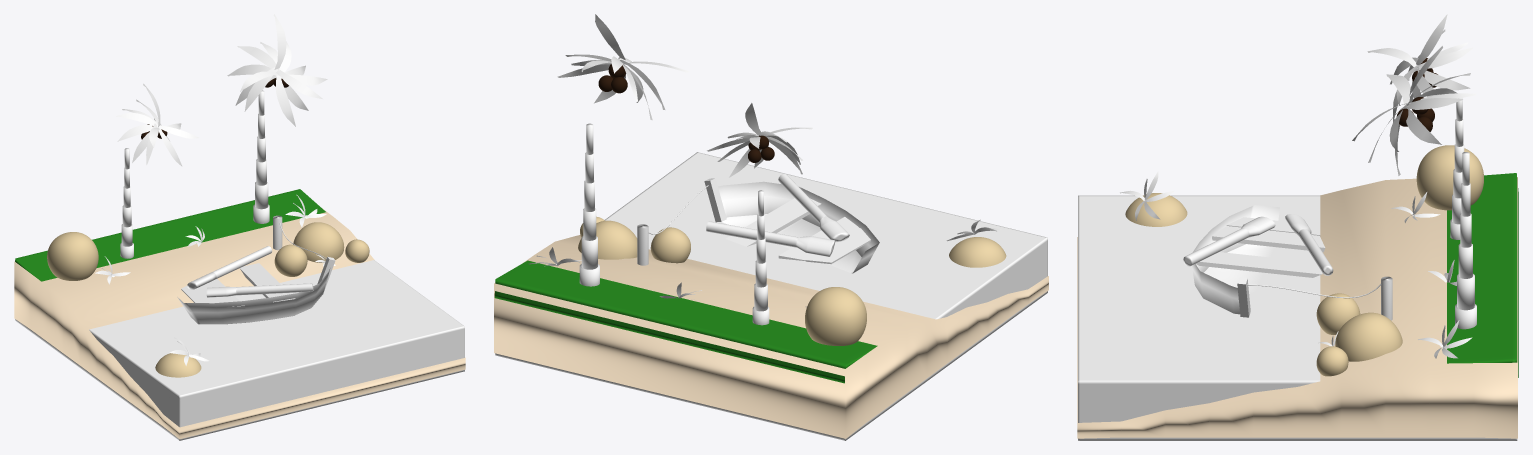
The model's file is teste.glb.
The picture shows the model from 3 angles, left to right: view 1: azimuth 30°, elevation 25°; view 2: azimuth 150°, elevation 25°; view 3: azimuth 270°, elevation 25°; orthographic projection. The views are drawn at different scales.
Visible parts, largest first — view 1: Cube, Cube.001, Cube.002, Plane, Cube.012, Cube.007, Cylinder.003, Cylinder.002, Cylinder, Cube.010, Cube.008, Cylinder.001 (+2 smaller); view 2: Cube.001, Cube, Cube.002, Plane, Cube.012, Cylinder.003, Cylinder.001, Cylinder.002, Cube.007, Cube.010, Cube.006, Cube.008 (+4 smaller); view 3: Cube, Cube.001, Cube.002, Plane, Cube.012, Cube.007, Cylinder.003, Cube.006, Cube.010, Cylinder.002, Cylinder, Cube.008 (+9 smaller).
Boxes of the visible parts, left/top/right/bottom form: Cube: left=15, top=260, right=464, bottom=440; Cube.001: left=14, top=208, right=465, bottom=439; Cube.002: left=15, top=189, right=325, bottom=281; Plane: left=177, top=268, right=330, bottom=324; Cube.012: left=47, top=232, right=98, bottom=280; Cube.007: left=293, top=222, right=344, bottom=262; Cylinder.003: left=253, top=90, right=269, bottom=223; Cylinder.002: left=120, top=148, right=133, bottom=258; Cylinder: left=206, top=283, right=313, bottom=297; Cube.010: left=155, top=353, right=201, bottom=377; Cube.008: left=274, top=244, right=307, bottom=276; Cylinder.001: left=187, top=246, right=272, bottom=289; Cube.001: left=494, top=235, right=1048, bottom=438; Cube: left=495, top=152, right=1047, bottom=440; Cube.002: left=494, top=260, right=877, bottom=383; Plane: left=718, top=181, right=879, bottom=273; Cube.012: left=805, top=287, right=866, bottom=345; Cylinder.003: left=579, top=123, right=599, bottom=286; Cylinder.001: left=706, top=221, right=835, bottom=256; Cylinder.002: left=752, top=190, right=769, bottom=325; Cube.007: left=578, top=220, right=637, bottom=259; Cube.010: left=949, top=237, right=1006, bottom=267; Cube.006: left=725, top=198, right=821, bottom=246; Cube.008: left=650, top=227, right=690, bottom=263; Cube: left=1078, top=195, right=1517, bottom=440; Cube.001: left=1077, top=177, right=1517, bottom=438; Cube.002: left=1447, top=173, right=1518, bottom=377; Plane: left=1192, top=205, right=1279, bottom=314; Cube.012: left=1416, top=145, right=1483, bottom=210; Cube.007: left=1335, top=312, right=1402, bottom=361; Cylinder.003: left=1455, top=152, right=1476, bottom=329; Cube.006: left=1195, top=252, right=1322, bottom=277; Cube.010: left=1125, top=193, right=1187, bottom=226; Cylinder.002: left=1450, top=97, right=1464, bottom=239; Cylinder: left=1183, top=216, right=1275, bottom=266; Cube.008: left=1316, top=293, right=1360, bottom=334.
Size of what is drawn, in the model's own units: 2 by 1.8 by 2.
